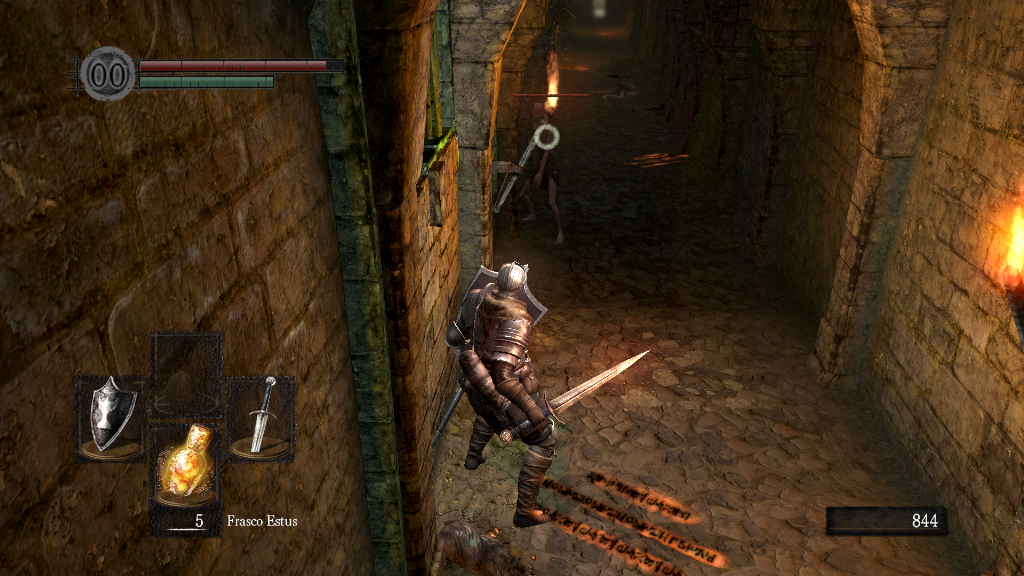health: (138, 58, 343, 71)
hollow: (520, 101, 568, 242)
humanity: (80, 45, 136, 102)
player: (432, 261, 654, 529)
souls: (825, 506, 945, 536)
stamina: (138, 74, 274, 88)
